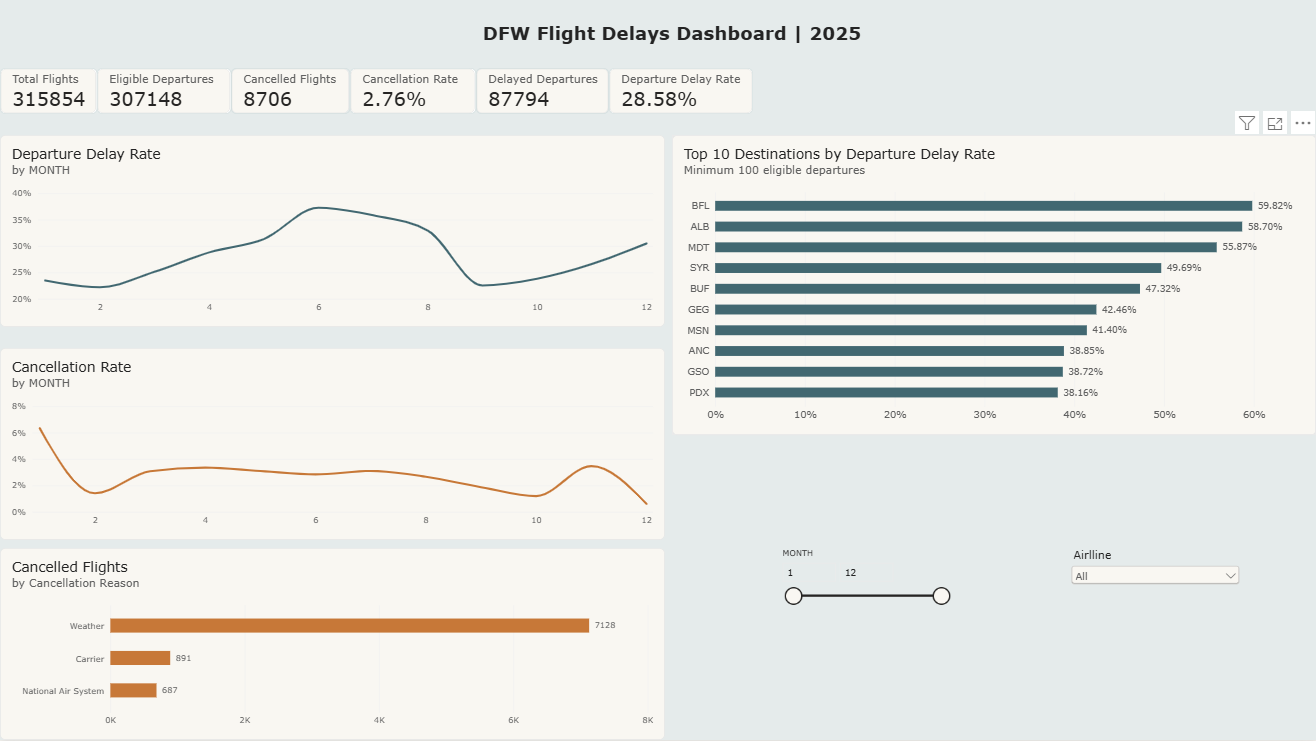

The page's visual inventory and layout, read from the dashboard file:
{"tool":"powerbi","page":{"name":"Page 1","canvas":[1920,1080],"ordinal":0},"visuals":[{"type":"cardVisual","fields":{"Data":["dfw_flights_2025.Total Flights"]},"box":[0,99.2,141.5,67.1],"z":0},{"type":"cardVisual","fields":{"Data":["dfw_flights_2025.Cancelled Flights"]},"box":[337,99.2,173.6,67.1],"z":1},{"type":"cardVisual","fields":{"Data":["dfw_flights_2025.Cancellation Rate"]},"box":[510.6,99.2,183.8,67.1],"z":2},{"type":"cardVisual","fields":{"Data":["dfw_flights_2025.Delayed Departures"]},"box":[694.5,99.2,194,67.1],"z":3},{"type":"cardVisual","fields":{"Data":["dfw_flights_2025.Eligible Departures"]},"box":[141.5,99.2,195.5,67.1],"z":4},{"type":"cardVisual","fields":{"Data":["dfw_flights_2025.Departure Delay Rate"]},"box":[888.5,99.2,210.1,67.1],"z":5},{"type":"lineChart","fields":{"Category":["dfw_flights_2025.MONTH"],"Y":["dfw_flights_2025.Departure Delay Rate"]},"box":[0,197,970.2,280.1],"z":6},{"type":"lineChart","fields":{"Category":["dfw_flights_2025.MONTH"],"Y":["dfw_flights_2025.Cancellation Rate"]},"box":[0,507.7,970.2,280.1],"z":7},{"type":"clusteredBarChart","fields":{"Category":["dfw_flights_2025.Cancellation Reason"],"Y":["dfw_flights_2025.Cancelled Flights"]},"box":[0,799.5,970,280],"z":8},{"type":"clusteredBarChart","title":"Top 10 Destinations by Departure Delay Rate","fields":{"Category":["dfw_flights_2025.DEST"],"Y":["dfw_flights_2025.Departure Delay Rate"]},"box":[980.4,197,939.6,437.7],"z":9},{"type":"slicer","fields":{"Values":["dfw_flights_2025.MONTH"]},"box":[1133.6,799.5,255.3,134.2],"z":10},{"type":"slicer","fields":{"Values":["dfw_flights_2025.OP_UNIQUE_CARRIER"]},"box":[1558.2,799.5,255.3,103.6],"z":11},{"type":"textbox","box":[698.8,30.6,563.2,37.9],"z":12}]}

Visuals, with their boxes in screenshot pixels (x1, y1, x2, y2), scaled from the page's 1920x1080 canvas onto the 1316x741 screenshot:
cardVisual - dfw_flights_2025.Total Flights: detection(0, 68, 97, 114)
cardVisual - dfw_flights_2025.Cancelled Flights: detection(231, 68, 350, 114)
cardVisual - dfw_flights_2025.Cancellation Rate: detection(350, 68, 476, 114)
cardVisual - dfw_flights_2025.Delayed Departures: detection(476, 68, 609, 114)
cardVisual - dfw_flights_2025.Eligible Departures: detection(97, 68, 231, 114)
cardVisual - dfw_flights_2025.Departure Delay Rate: detection(609, 68, 753, 114)
lineChart - dfw_flights_2025.MONTH x dfw_flights_2025.Departure Delay Rate: detection(0, 135, 665, 327)
lineChart - dfw_flights_2025.MONTH x dfw_flights_2025.Cancellation Rate: detection(0, 348, 665, 541)
clusteredBarChart - dfw_flights_2025.Cancellation Reason x dfw_flights_2025.Cancelled Flights: detection(0, 549, 665, 740)
"Top 10 Destinations by Departure Delay Rate" clusteredBarChart: detection(672, 135, 1315, 435)
slicer - dfw_flights_2025.MONTH: detection(777, 549, 952, 641)
slicer - dfw_flights_2025.OP_UNIQUE_CARRIER: detection(1068, 549, 1243, 620)
textbox: detection(479, 21, 865, 47)
